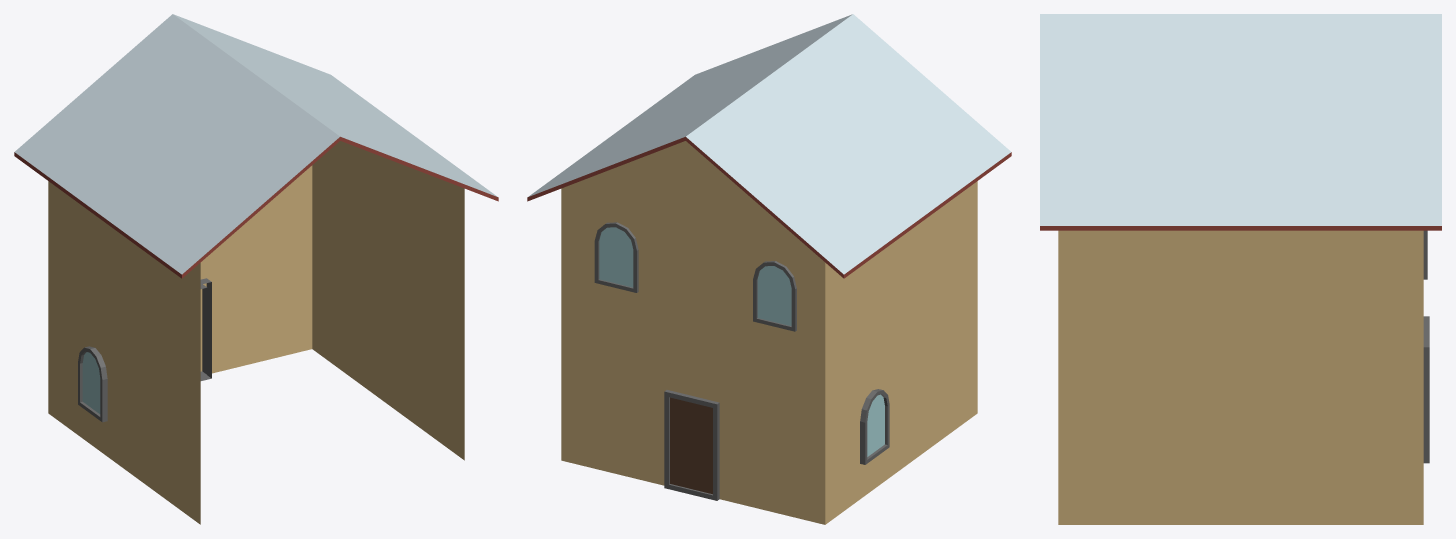
File: House2.fbx
3 views of the same model, side by side, from view 1: azimuth 30°, elevation 25°; view 2: azimuth 150°, elevation 25°; view 3: azimuth 270°, elevation 25° (orthographic). The views are drawn at different scales.
Visible parts, largest first — view 1: House2; view 2: House2; view 3: House2.
Boxes of the visible parts, x1,y1,x2,y2 form: House2: (14, 14, 498, 524); House2: (527, 14, 1011, 524); House2: (1040, 14, 1441, 524).
Size of the model in its own units: 24 by 22 by 26.2.
